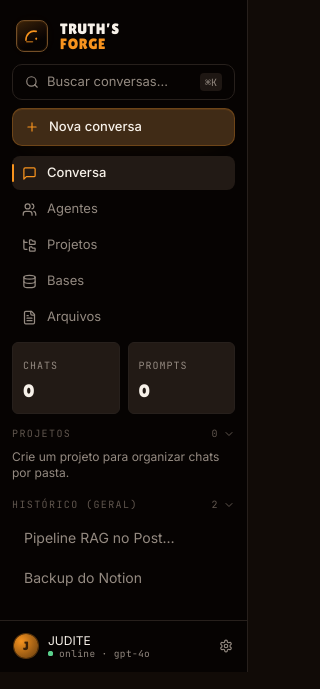
AppSidebar (v4 reskin) › filters conversations through the search field
This screenshot has width=320, height=689.
In the field labelled "Buscar conversas": (120, 82) x1=47 y1=72 x2=192 y2=92, type "rag"
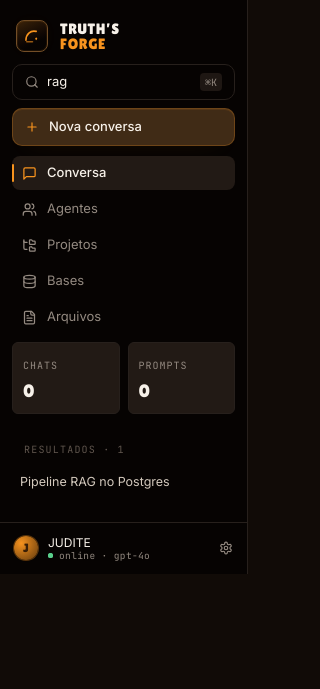
Expected: the text "Pipeline RAG no Postgres" is shown, x1=20 y1=474 x2=170 y2=489
Expected: the button "Backup do Notion" is gone
